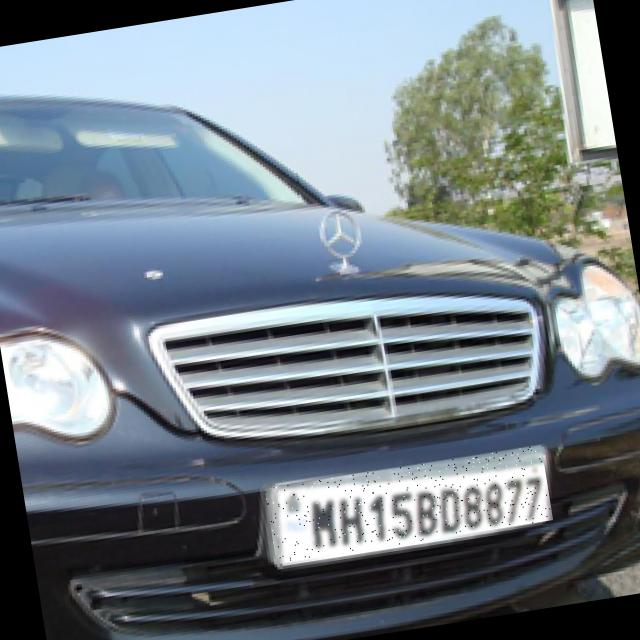Plate: (266, 446, 554, 565)
